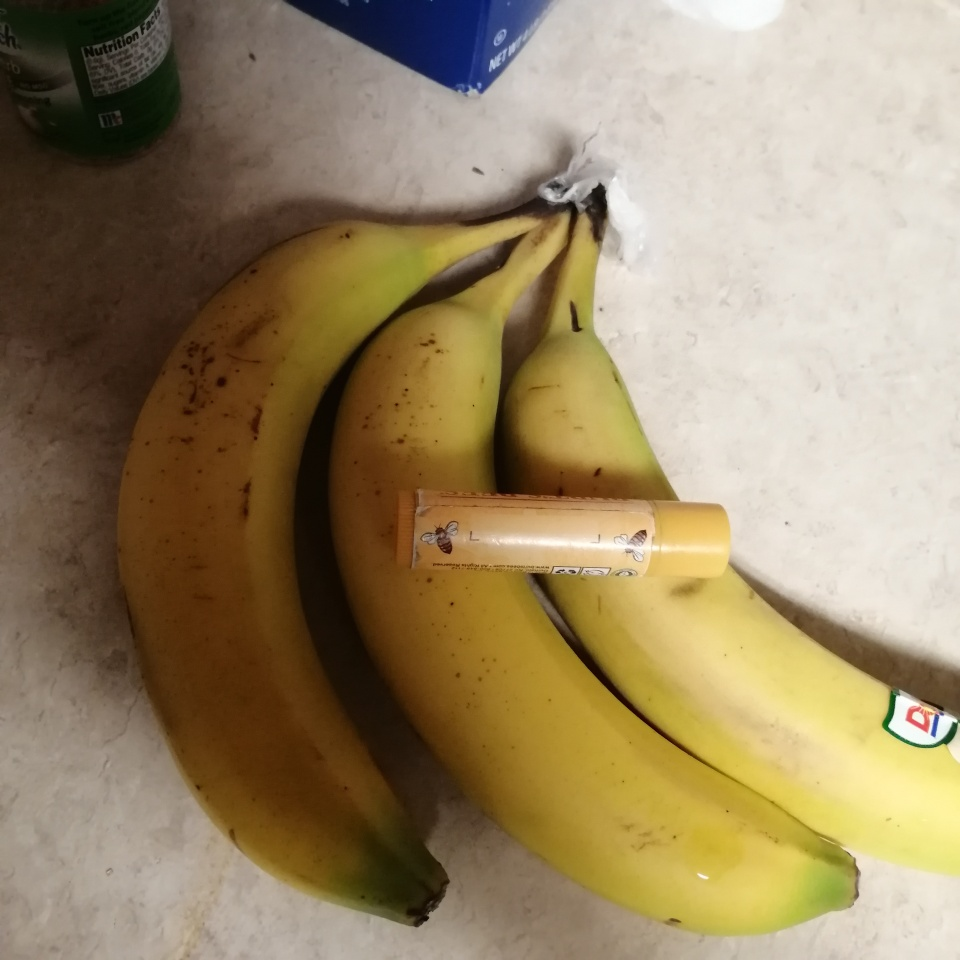chapstick: (395, 488, 732, 585)
